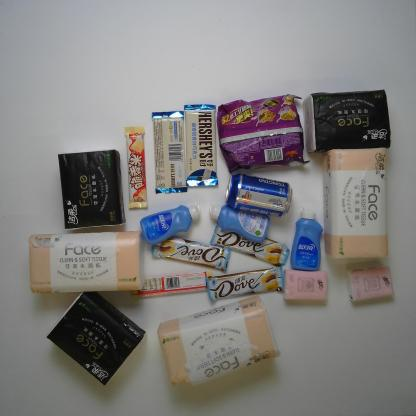Alcohol: (227, 175, 296, 216)
Chocolate: (207, 223, 290, 266), (148, 236, 230, 274), (152, 110, 188, 195), (182, 103, 218, 187), (203, 268, 284, 300), (121, 126, 150, 212), (135, 270, 210, 299)
Instant Noodles: (216, 93, 308, 172)
Personal Hygiene: (140, 204, 202, 247), (210, 206, 270, 244), (289, 209, 324, 270)
Tissue: (158, 296, 282, 387), (47, 293, 145, 388), (323, 149, 390, 262), (27, 233, 144, 295), (55, 148, 125, 230), (305, 89, 393, 149), (350, 266, 395, 305), (284, 267, 329, 302)
